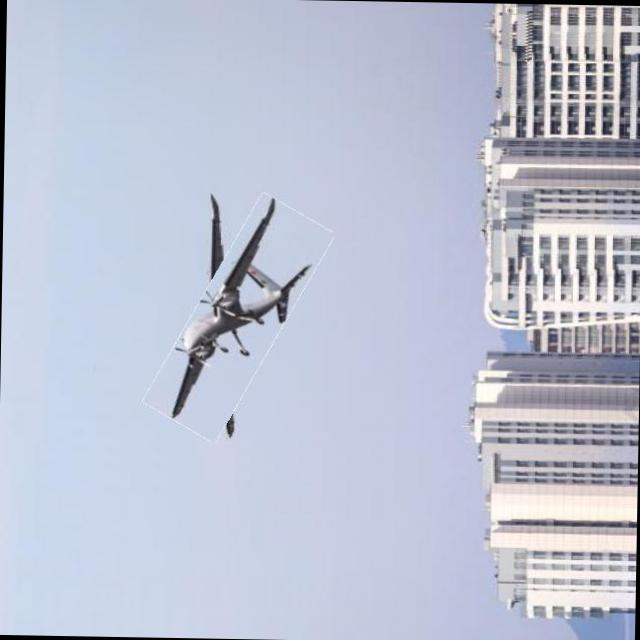UAV: (150, 202, 322, 420)
